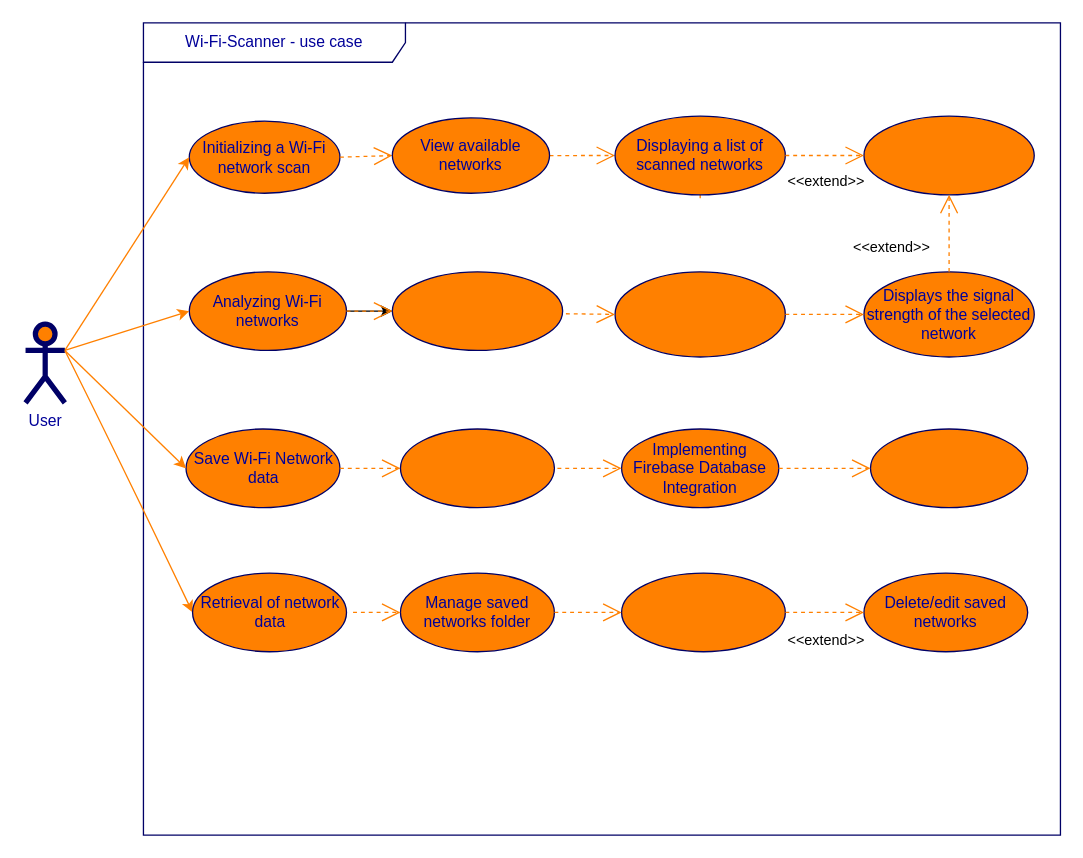
Image size: 1083x858. Some labels were removed from this diagram. The centre of each missing label's shape, as x and y in pixels:
Accessing Data Offline: the point at 948,468
Decision to save select network data: the point at 476,468
Displays networks stored in Firebase Database: the point at 702,612
Fetects Wi-Fi data (SSID signal strength, etc): the point at 699,314
No Networks found: the point at 948,155
Selection of a Wi-Fi network from the list: the point at 477,310
